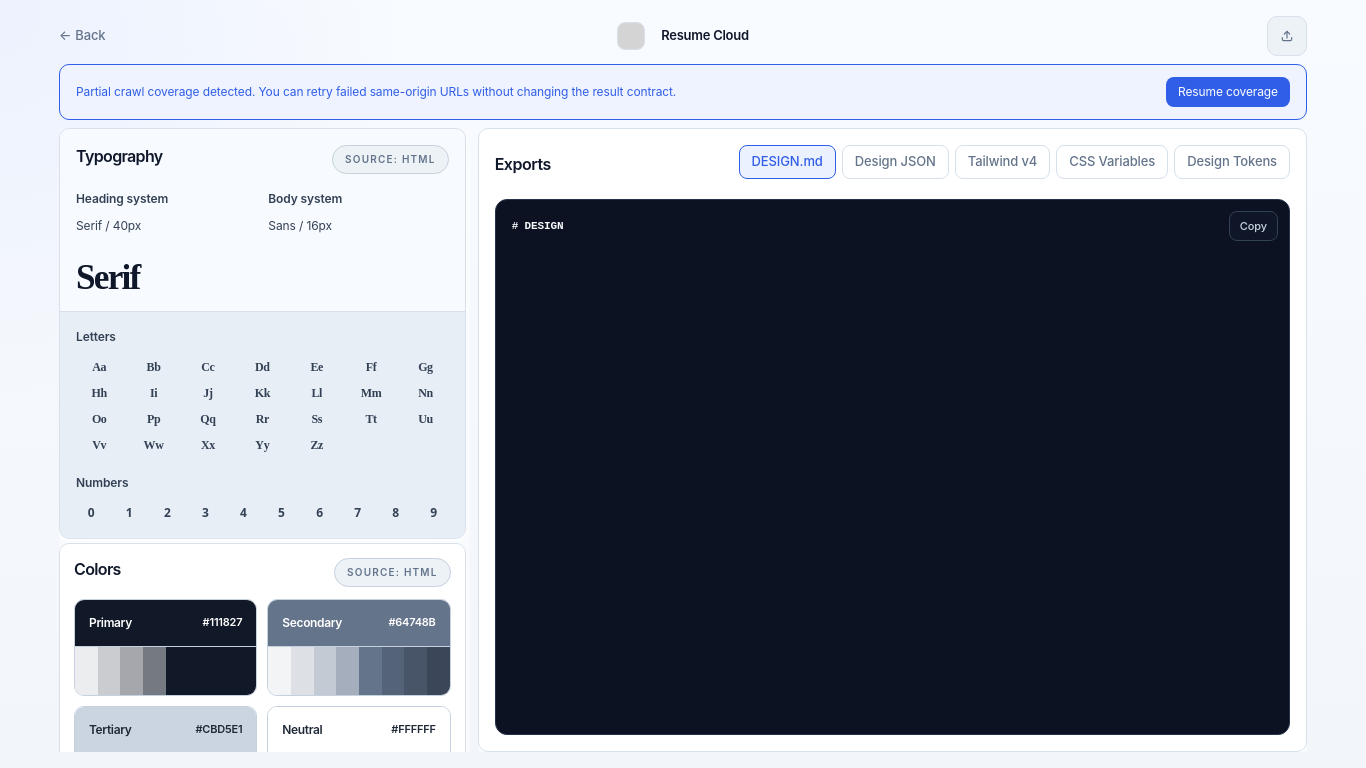
it: results client retry affordance › offers coverage resume for completed jobs with crawl failures
Step 1. Click the button "Resume coverage" → [1228, 92], box [1166,77,1290,107]
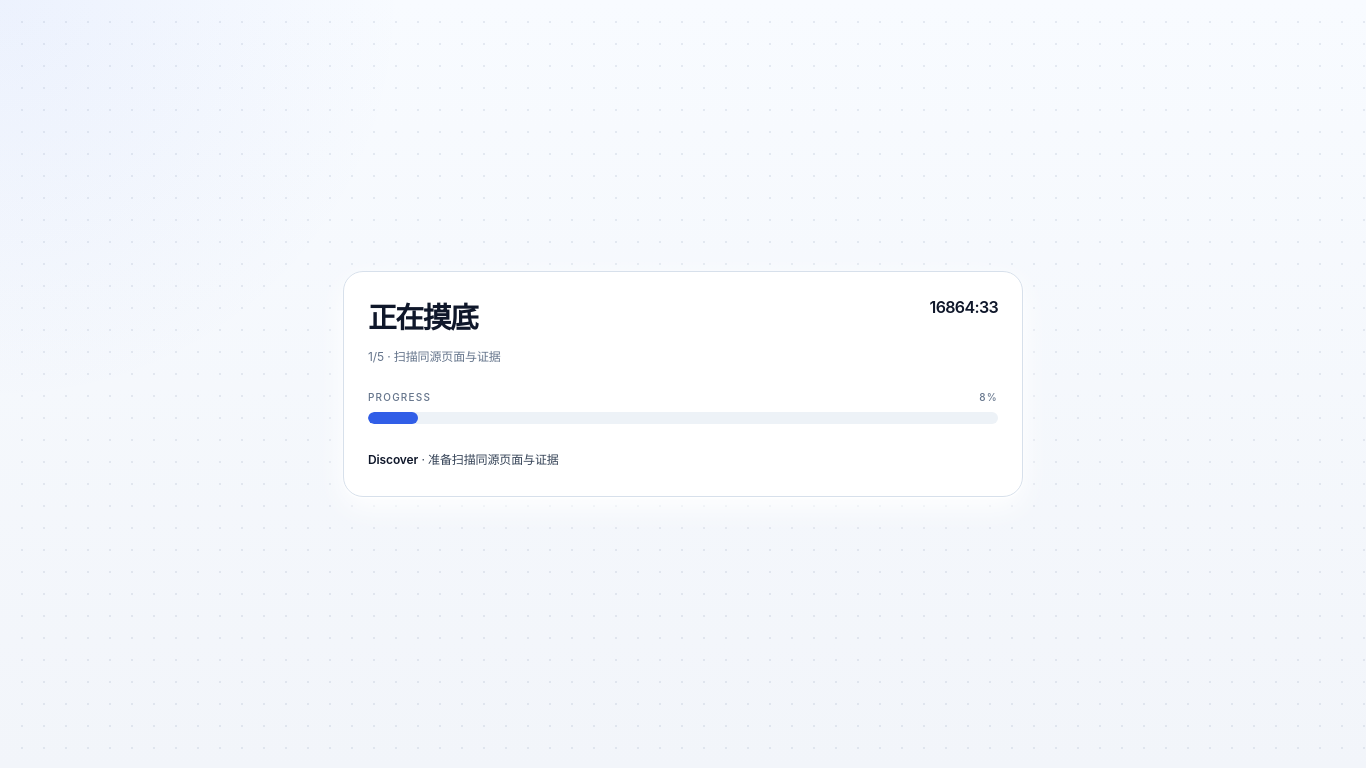
Result: the element with test id "generation-progress-card" is shown at [343,271,1023,497]
Result: the text "1/5 · 扫描同源页面与证据" is shown at [368,348,501,366]
Result: the text "8%" is shown at [979,390,998,404]
